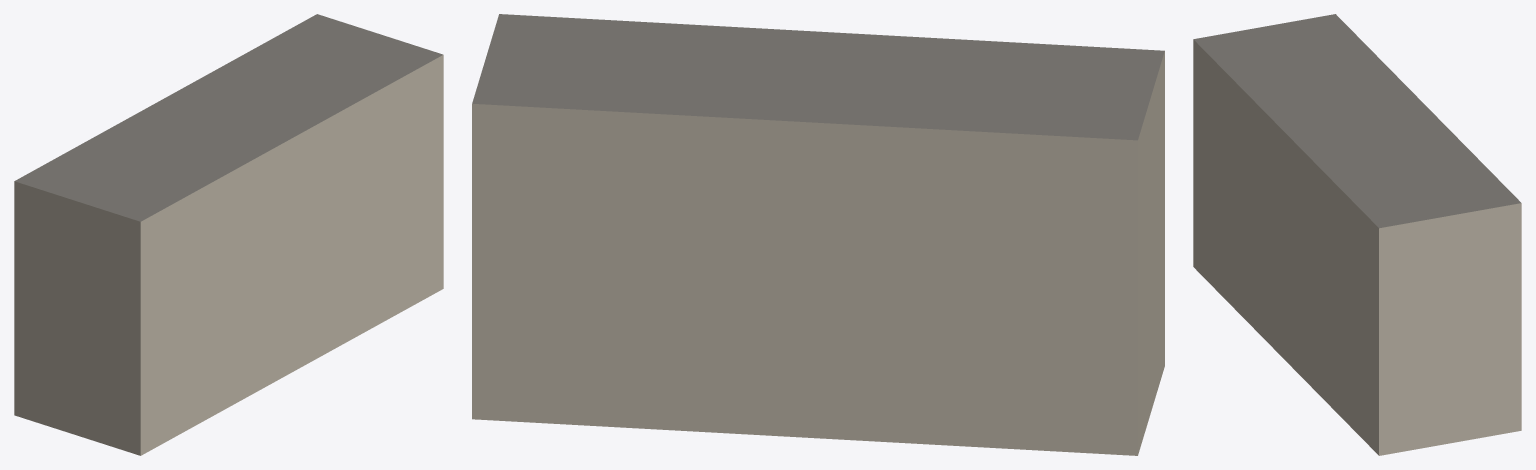
3 views of the same model, side by side, from view 1: azimuth 30°, elevation 25°; view 2: azimuth 150°, elevation 25°; view 3: azimuth 270°, elevation 25° (orthographic). The views are drawn at different scales.
Parts seen in each view (by area): view 1: HP-w372180456; view 2: HP-w372180456; view 3: HP-w372180456.
Boxes of the visible parts, x1,y1,x2,y2 form: HP-w372180456: (14, 14, 443, 455); HP-w372180456: (472, 14, 1164, 455); HP-w372180456: (1193, 14, 1521, 455).
Bounding box in the file's own units: 36.33 × 18 × 23.53.
